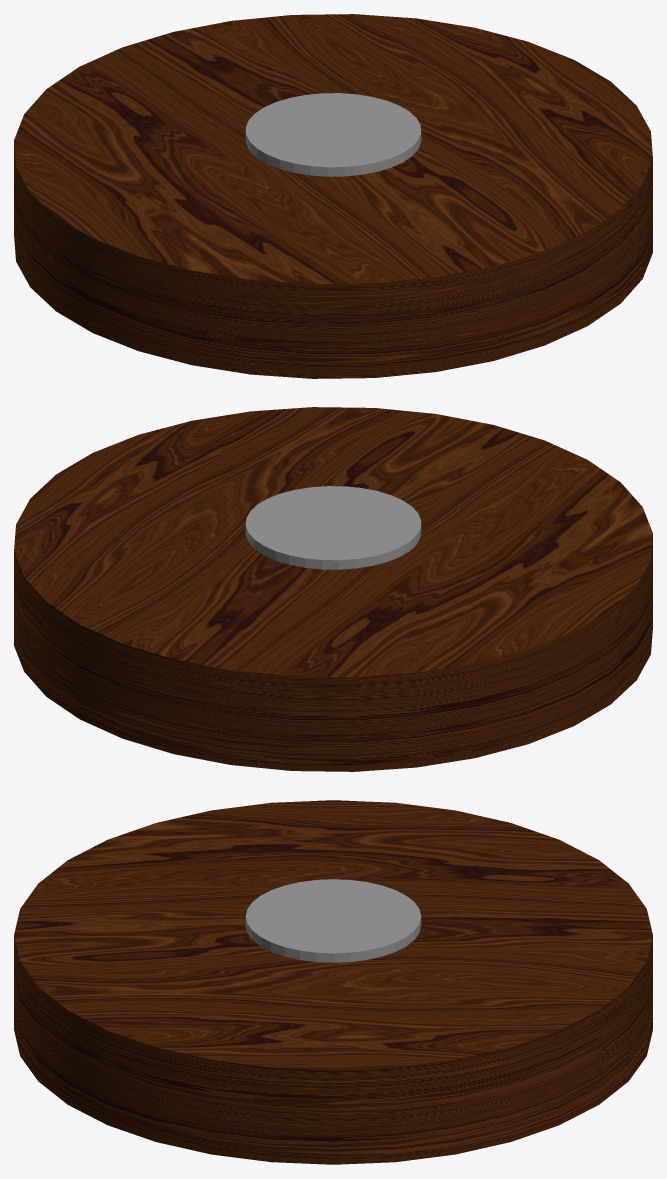
Rendered from Wheel0.FBX.
The picture shows the model from 3 angles, top to bottom: view 1: azimuth 30°, elevation 25°; view 2: azimuth 150°, elevation 25°; view 3: azimuth 270°, elevation 25°; orthographic projection.
Visible parts, largest first — view 1: Wheel0; view 2: Wheel0; view 3: Wheel0.
Boxes of the visible parts, x1,y1,x2,y2 form: Wheel0: (14, 14, 652, 378); Wheel0: (14, 407, 652, 771); Wheel0: (14, 800, 652, 1164).
Bounding box in the file's own units: 53.97 × 10.57 × 53.97.
Materials: 2 (1 with a texture image).
